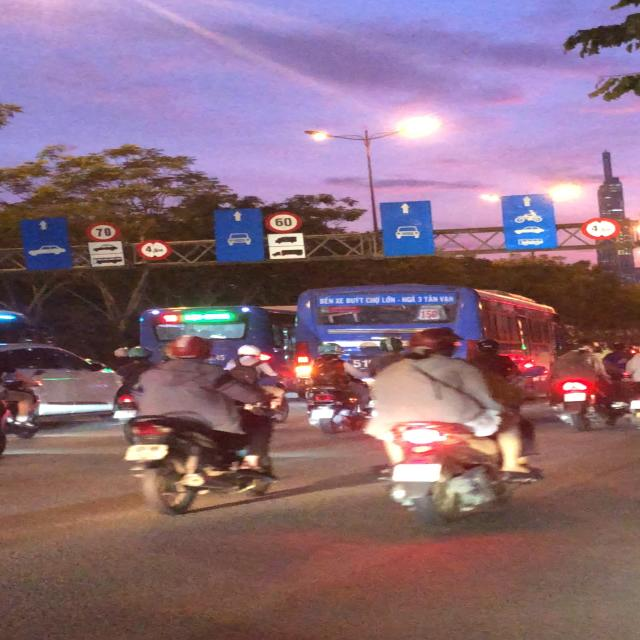Bien bao han che chieu cao: (577, 215, 623, 242), (136, 239, 172, 261)
Bien bao toc do toi da cho phep: (262, 211, 302, 237), (82, 220, 121, 242)
